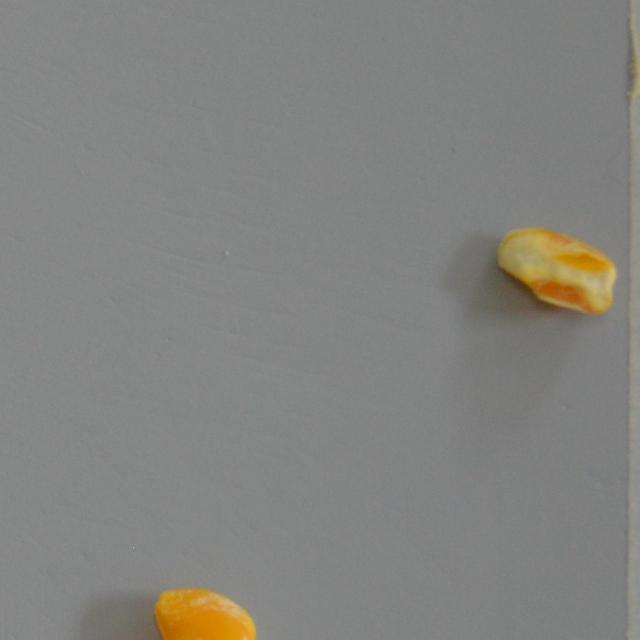pelicula: (492, 226, 616, 314), (152, 586, 256, 640)
